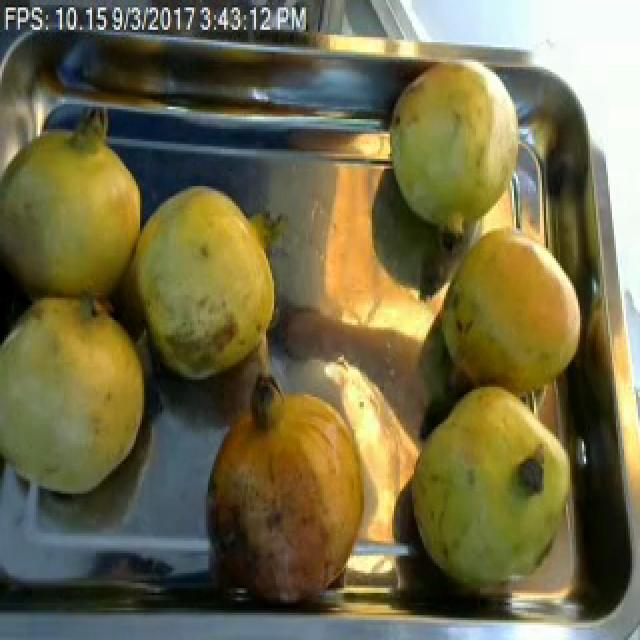fruit: (192, 364, 382, 618), (398, 365, 594, 605), (122, 171, 296, 395), (420, 206, 596, 417), (0, 281, 158, 514), (378, 49, 536, 256), (2, 109, 160, 313)
